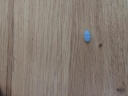Majezik: (83, 29, 91, 44)
